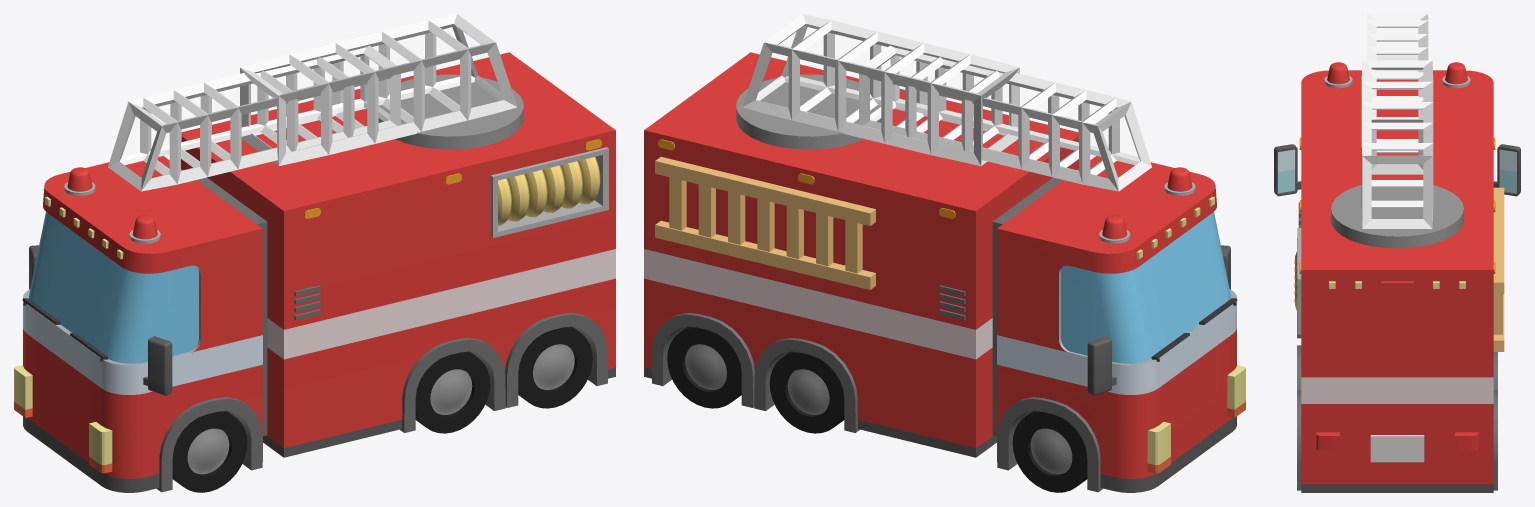
Rendered from fire_engine.fbx.
The picture shows the model from 3 angles, left to right: view 1: azimuth 30°, elevation 25°; view 2: azimuth 150°, elevation 25°; view 3: azimuth 270°, elevation 25°; orthographic projection. The views are drawn at different scales.
Visible parts, largest first — view 1: Cube.633; view 2: Cube.633; view 3: Cube.633.
Part boxes in pixels (x1,y1,x2,y2): Cube.633: (14,14,615,492); Cube.633: (644,14,1245,492); Cube.633: (1274,14,1520,492).
Bounding box in the file's own units: 229 × 148 × 105.
1 material, 1 textured.
